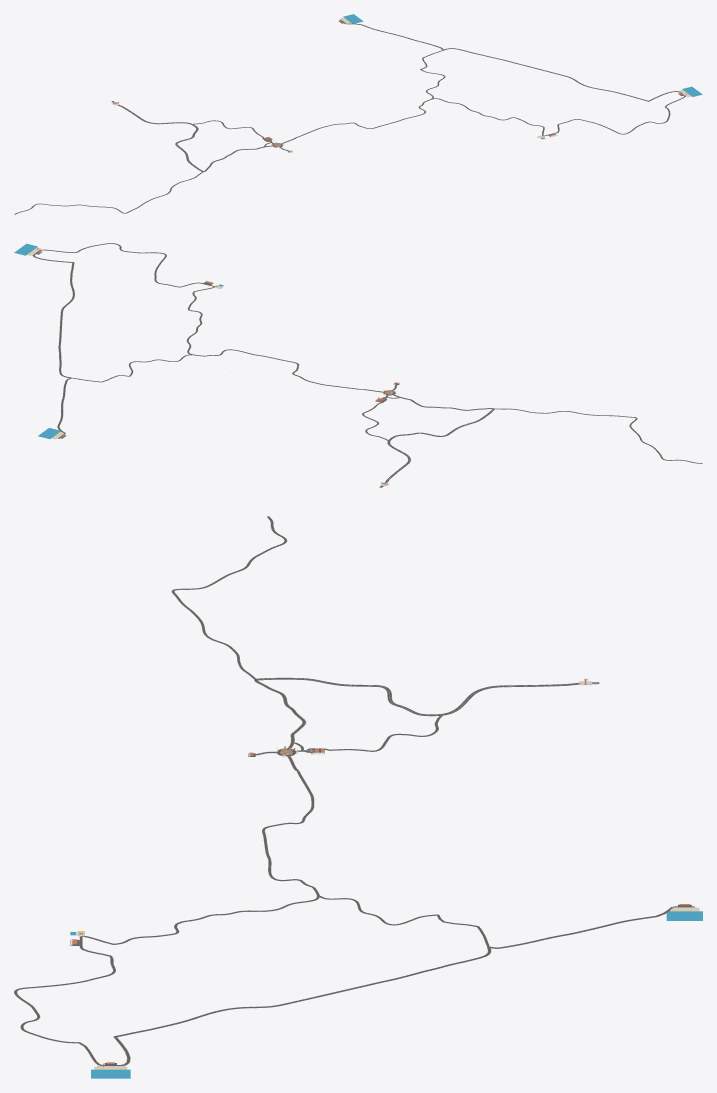
File: Thrissur_Roads.fbx
The picture shows the model from 3 angles, top to bottom: view 1: azimuth 30°, elevation 25°; view 2: azimuth 150°, elevation 25°; view 3: azimuth 270°, elevation 25°; orthographic projection. The views are drawn at different scales.
Parts seen in each view (by area): view 1: ROAD_NH66_CHAVAKKAD_TO_TRIPRAYAR, ROAD_KANJANI_TO_GURUVAYUR_CHAVAKKAD, ROAD_NH544_MANNUTHY_TO_PALIYEKKARA; view 2: ROAD_KANJANI_TO_GURUVAYUR_CHAVAKKAD, ROAD_NH66_CHAVAKKAD_TO_TRIPRAYAR, ROAD_NH544_MANNUTHY_TO_PALIYEKKARA, ROAD_MANNUTHY_TO_PEECHI_DAM; view 3: ROAD_NH66_CHAVAKKAD_TO_TRIPRAYAR, ROAD_KANJANI_TO_GURUVAYUR_CHAVAKKAD, ROAD_NH544_MANNUTHY_TO_PALIYEKKARA.
Boxes of the visible parts, x1,y1,x2,y2 form: ROAD_NH66_CHAVAKKAD_TO_TRIPRAYAR: (340,19,679,101); ROAD_KANJANI_TO_GURUVAYUR_CHAVAKKAD: (423,92,685,136); ROAD_NH544_MANNUTHY_TO_PALIYEKKARA: (111,101,203,171); ROAD_KANJANI_TO_GURUVAYUR_CHAVAKKAD: (34,243,215,356); ROAD_NH66_CHAVAKKAD_TO_TRIPRAYAR: (32,254,74,438); ROAD_NH544_MANNUTHY_TO_PALIYEKKARA: (379,409,494,487); ROAD_MANNUTHY_TO_PEECHI_DAM: (494,408,702,463); ROAD_NH66_CHAVAKKAD_TO_TRIPRAYAR: (113,906,694,1065); ROAD_KANJANI_TO_GURUVAYUR_CHAVAKKAD: (14,887,319,1065); ROAD_NH544_MANNUTHY_TO_PALIYEKKARA: (256,677,599,716).
Bounding box in the file's own units: 809127 × 2150 × 418828.
